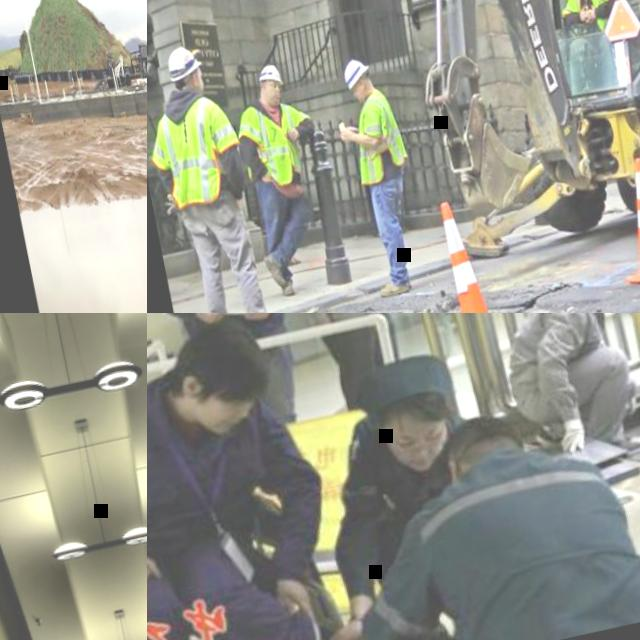Hardhat: (164, 42, 205, 82), (343, 58, 373, 90), (257, 63, 284, 87)
NO-Hardhat: (184, 314, 277, 410), (363, 362, 454, 428), (442, 408, 527, 463)
NO-Mask: (192, 400, 240, 439), (397, 445, 446, 476), (262, 87, 281, 104), (192, 75, 207, 93), (355, 85, 370, 102)
NO-Safety Vest: (412, 434, 640, 640), (147, 367, 281, 580), (355, 427, 465, 568), (497, 313, 606, 389)
Person: (317, 384, 640, 640), (147, 313, 363, 640), (290, 345, 513, 640), (147, 31, 296, 313), (223, 57, 349, 302), (325, 52, 437, 302), (483, 313, 640, 475), (147, 313, 325, 446), (259, 313, 428, 425), (552, 0, 624, 36)
Safety Cone: (421, 194, 521, 313), (603, 157, 640, 295)
Safety Vest: (156, 94, 232, 210), (342, 86, 412, 185), (247, 100, 306, 189), (565, 0, 615, 36)
vehicle: (367, 0, 640, 292), (125, 20, 147, 85)
